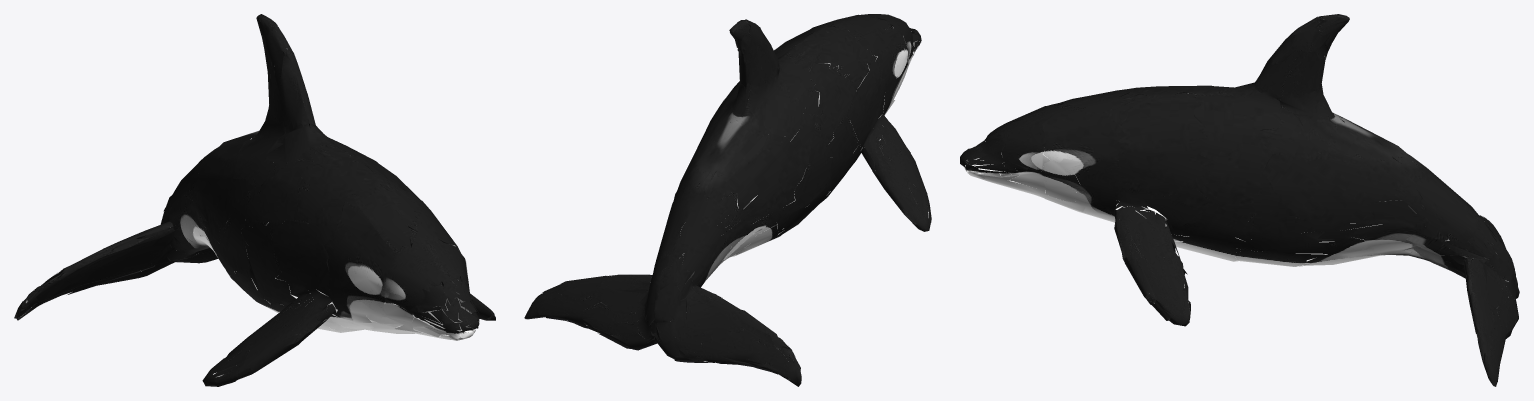
The model's file is orca.glb.
The picture shows the model from 3 angles, left to right: view 1: azimuth 30°, elevation 25°; view 2: azimuth 150°, elevation 25°; view 3: azimuth 270°, elevation 25°; orthographic projection. The views are drawn at different scales.
Visible parts, largest first — view 1: orca; view 2: orca; view 3: orca.
Part boxes in pixels (<box>): orca: <box>14,14,495,386</box>; orca: <box>524,14,931,386</box>; orca: <box>960,14,1519,386</box>.
Bounding box in the file's own units: 3.41 × 3.26 × 5.5.
Materials: 1 (1 with a texture image).
